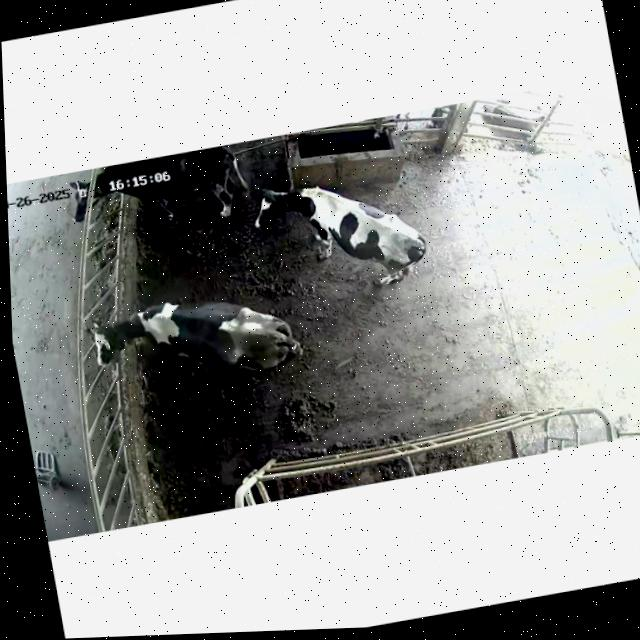eat: (50, 158, 159, 231)
stand: (244, 155, 438, 311), (86, 281, 316, 408)
